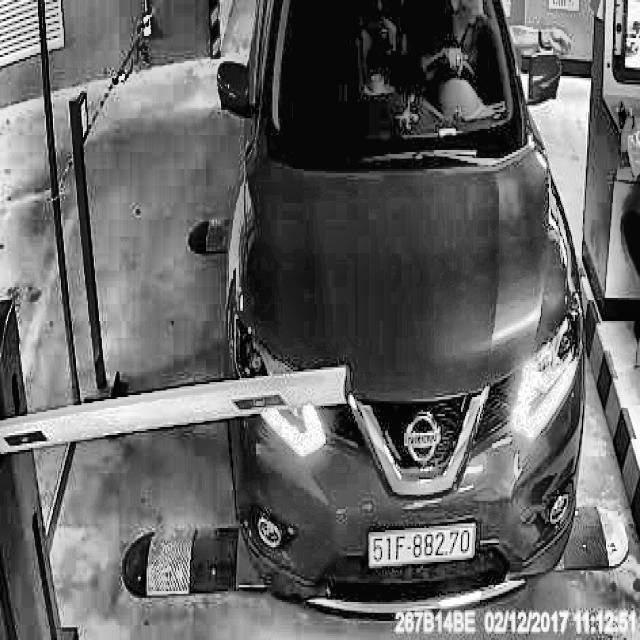plate: (364, 520, 479, 572)
